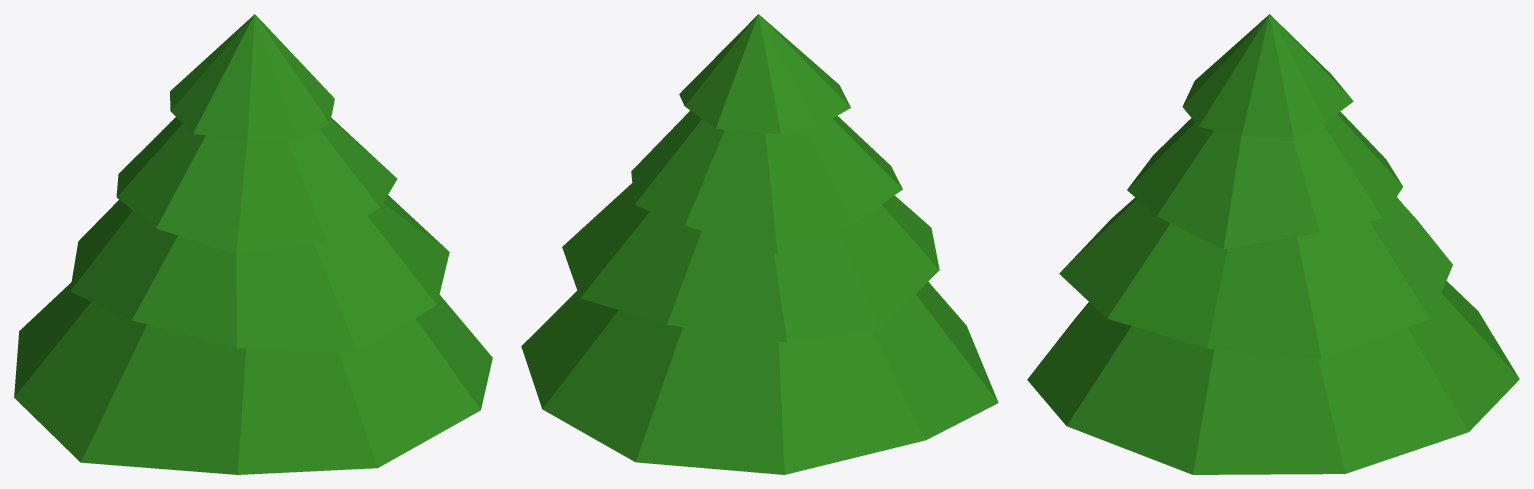
The model's file is Pine_Tree.fbx.
3 views of the same model, side by side, from view 1: azimuth 30°, elevation 25°; view 2: azimuth 150°, elevation 25°; view 3: azimuth 270°, elevation 25° (orthographic). The views are drawn at different scales.
Parts seen in each view (by area): view 1: Pine_Tree; view 2: Pine_Tree; view 3: Pine_Tree.
Boxes of the visible parts, box(x1,y1,x2,y2) form: Pine_Tree: box(14, 14, 492, 474); Pine_Tree: box(521, 14, 998, 474); Pine_Tree: box(1027, 14, 1519, 474).
Size of the model in its own units: 171 by 169 by 177.
